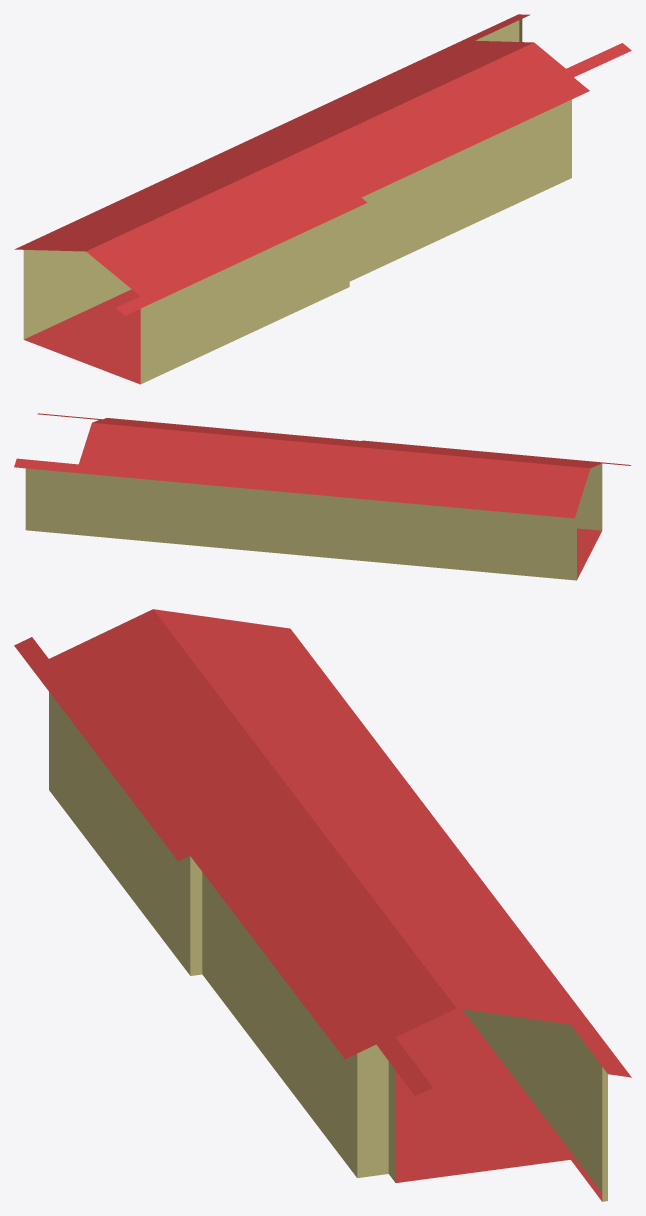
The picture shows the model from 3 angles, top to bottom: view 1: azimuth 30°, elevation 25°; view 2: azimuth 150°, elevation 25°; view 3: azimuth 270°, elevation 25°; orthographic projection. The views are drawn at different scales.
Size of the model in its own units: 44.69 by 24.39 by 7.26.
